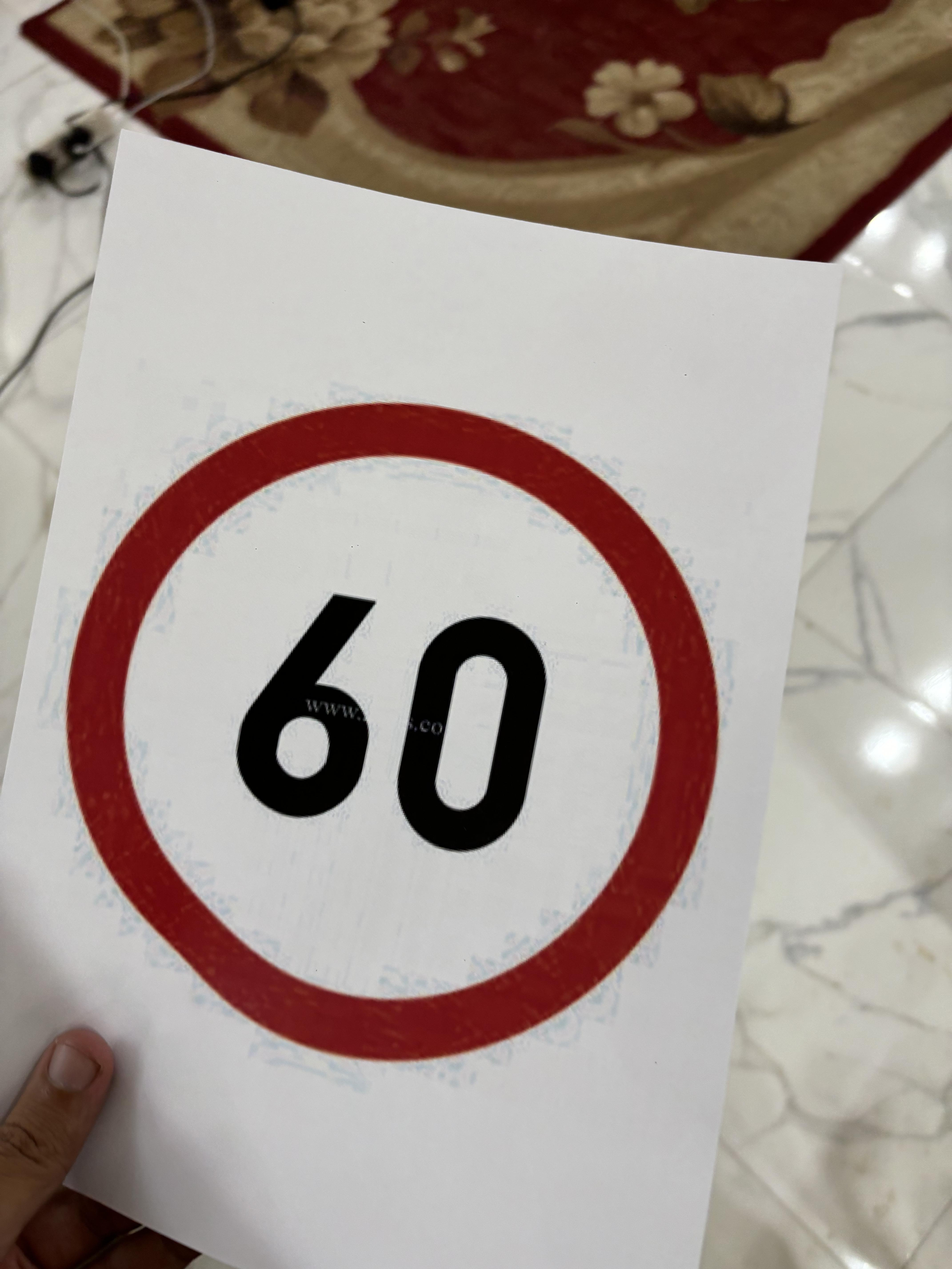60-Speed: (56, 394, 733, 1066)
